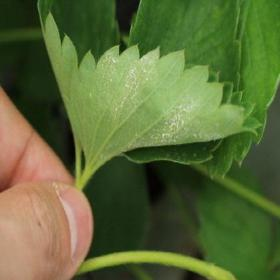Powdery Mildew Leaf: (61, 42, 265, 181)
